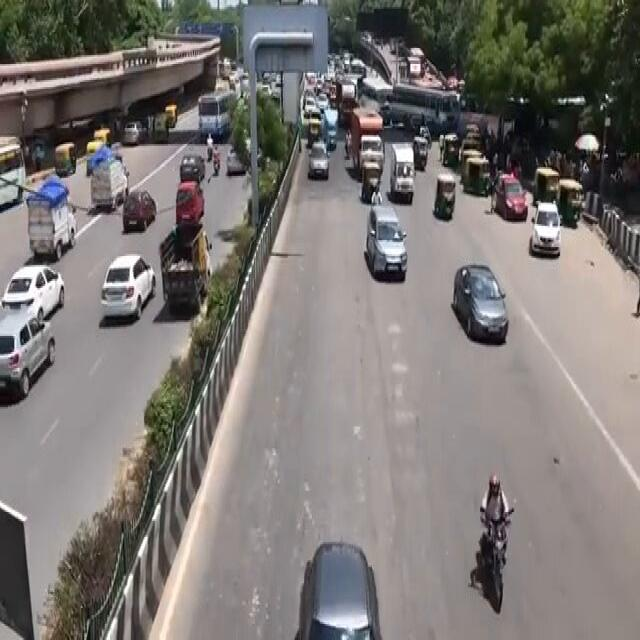three_wheeler: (430, 163, 459, 234)
